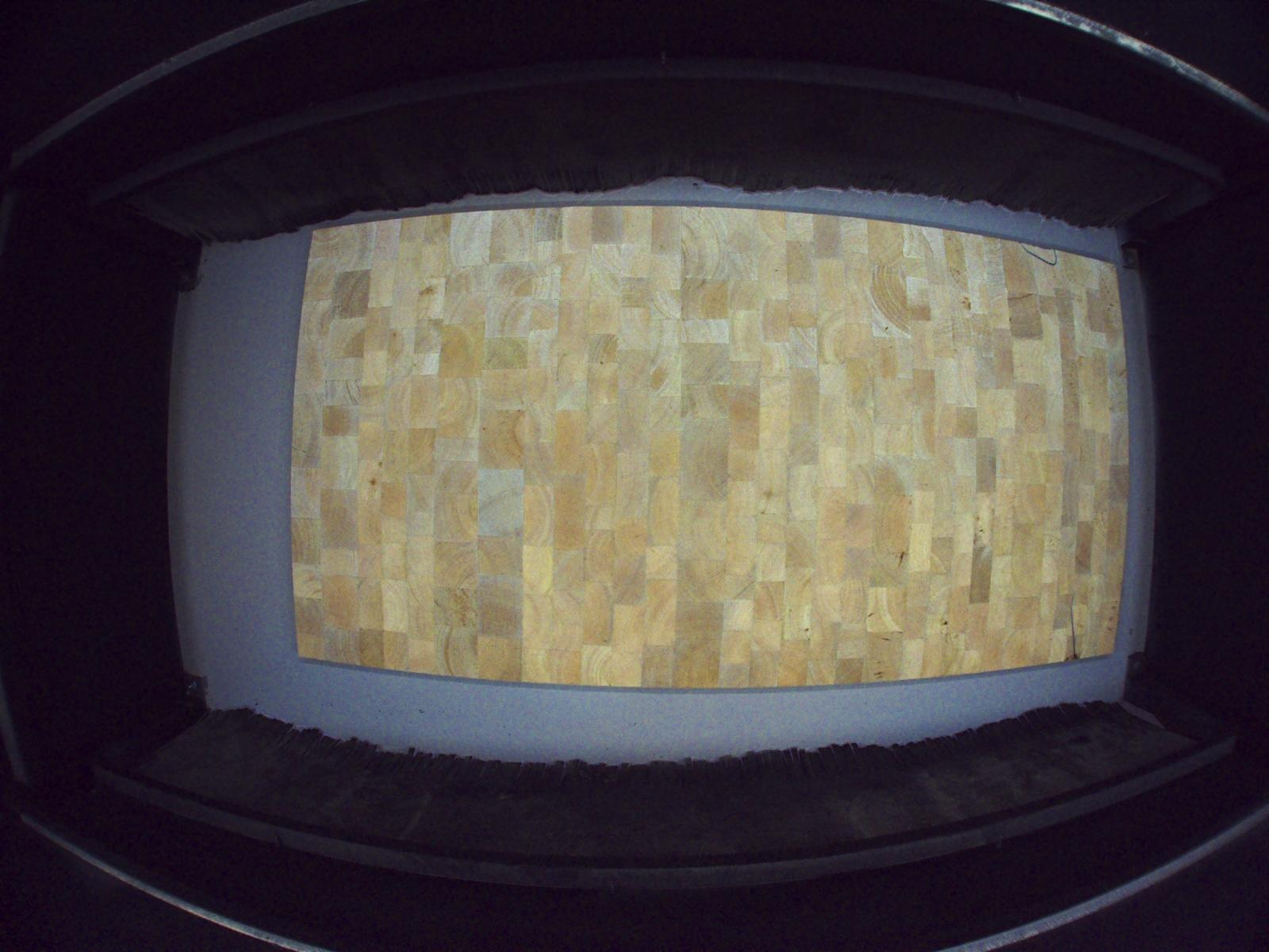nudillo: (1065, 652, 1080, 660)
